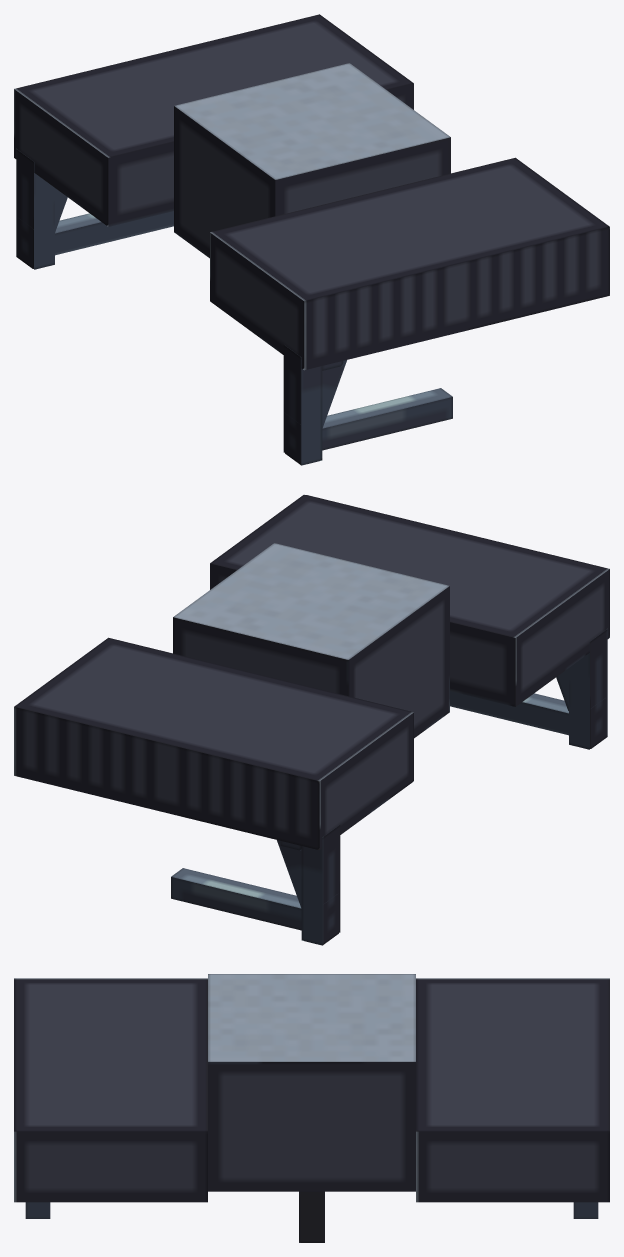
The model's file is sw220k_top.obj.
The picture shows the model from 3 angles, top to bottom: view 1: azimuth 30°, elevation 25°; view 2: azimuth 150°, elevation 25°; view 3: azimuth 270°, elevation 25°; orthographic projection. The views are drawn at different scales.
Parts seen in each view (by area): view 1: top; view 2: top; view 3: top.
Part boxes in pixels (x1,y1,x2,y2): top: (14,14,609,465); top: (14,494,609,945); top: (14,974,609,1242).
Size of the model in its own units: 1.74 by 1.16 by 2.86.
